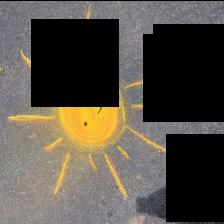yellow: (54, 67, 126, 151)
